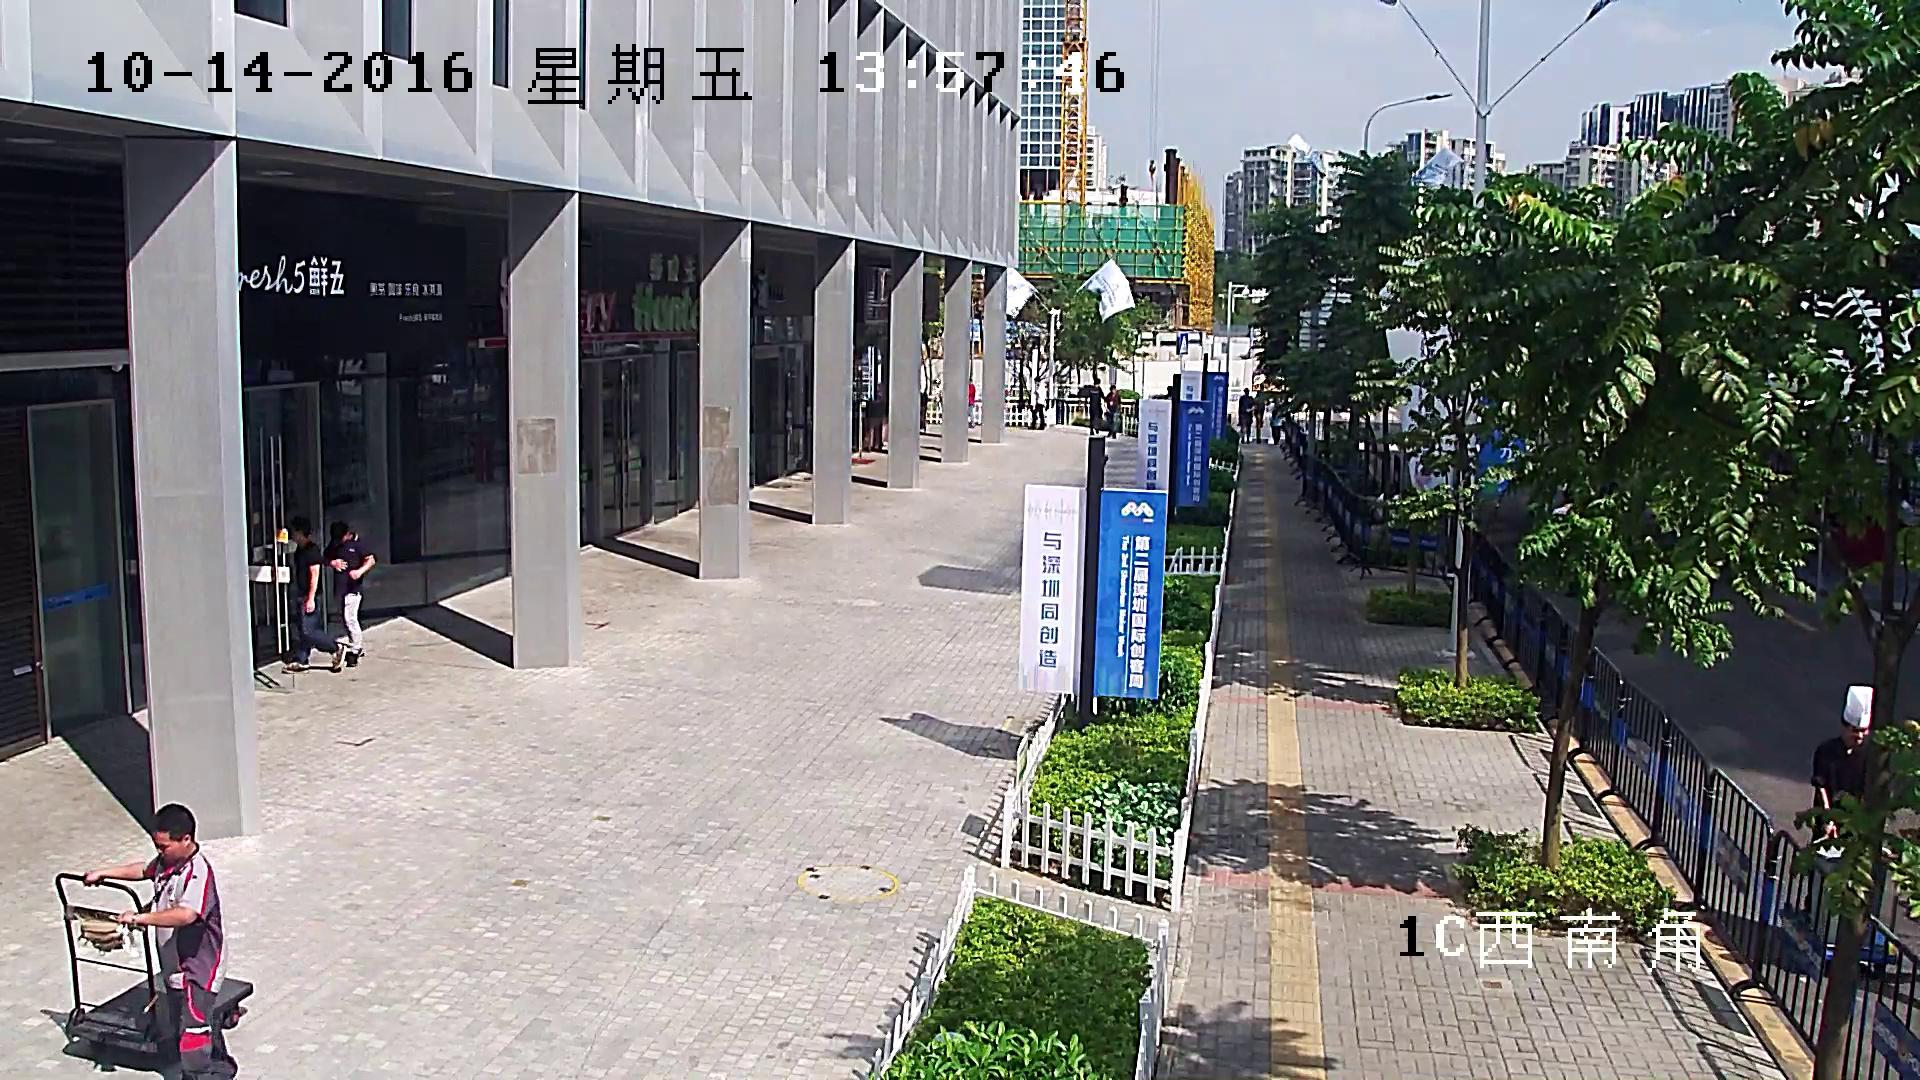person: (55, 805, 254, 1080), (82, 805, 234, 1078), (1813, 685, 1898, 972), (1813, 685, 1895, 868), (283, 520, 345, 671), (324, 518, 373, 662), (1085, 378, 1102, 436), (1028, 376, 1047, 429), (1247, 388, 1265, 441), (1238, 387, 1253, 444), (1104, 385, 1120, 438), (967, 377, 976, 428), (1271, 404, 1282, 445)
